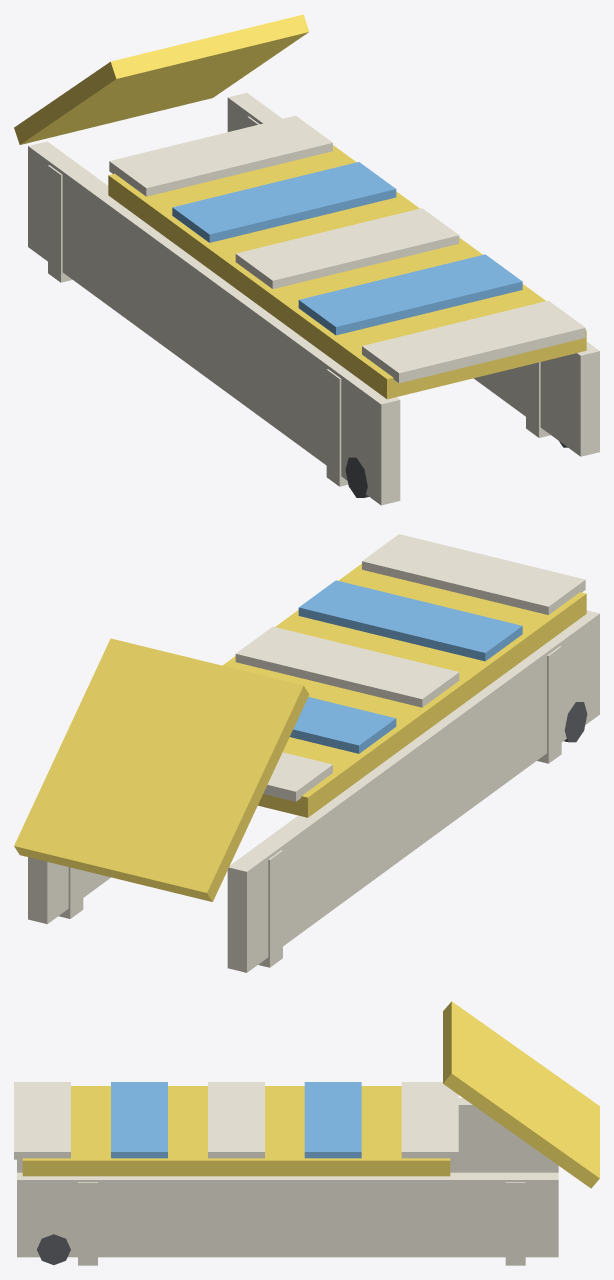
The model's file is lawn-mowing-simulator-kit-sun-lounger-2a8efe9f__27399.glb.
3 renders of one model, top to bottom at view 1: azimuth 30°, elevation 25°; view 2: azimuth 150°, elevation 25°; view 3: azimuth 270°, elevation 25°, orthographic. The views are drawn at different scales.
Parts seen in each view (by area): view 1: sun-lounger; view 2: sun-lounger; view 3: sun-lounger.
Boxes of the visible parts, x1,y1,x2,y2 form: sun-lounger: (14,14,599,505); sun-lounger: (14,534,599,972); sun-lounger: (14,1001,599,1265).
Size of the model in its own units: 0.69 by 0.7229 by 2.06.
